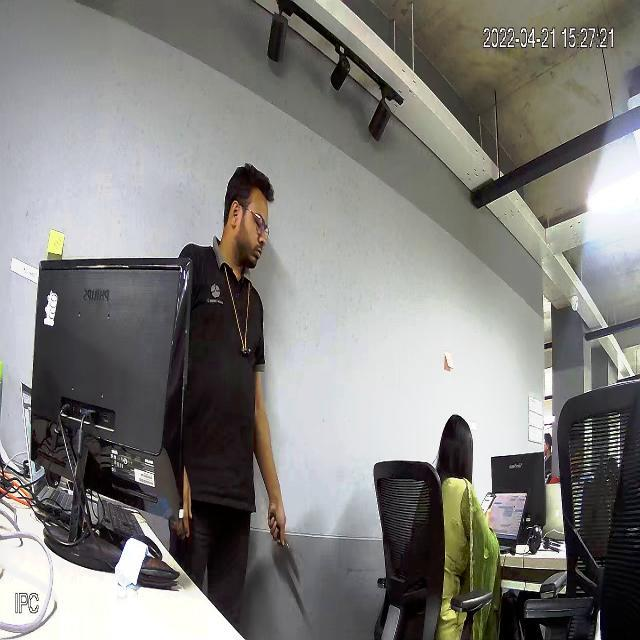Knife: (266, 509, 306, 582)
